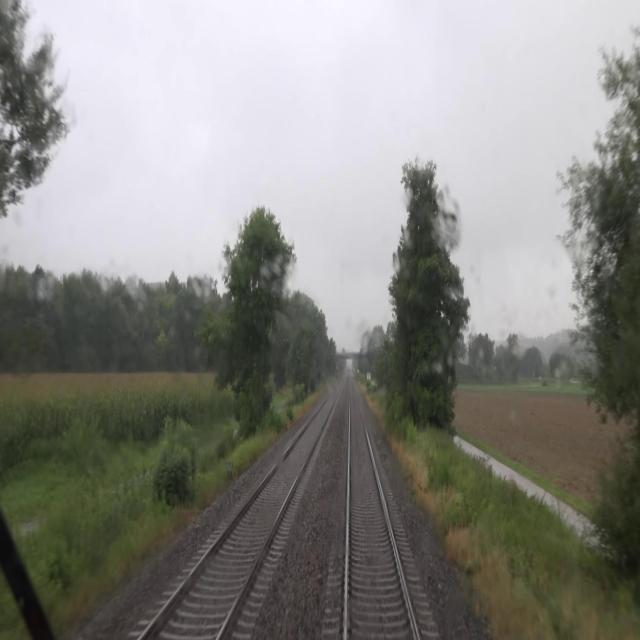rail-track: (144, 390, 337, 639), (349, 382, 415, 639)
